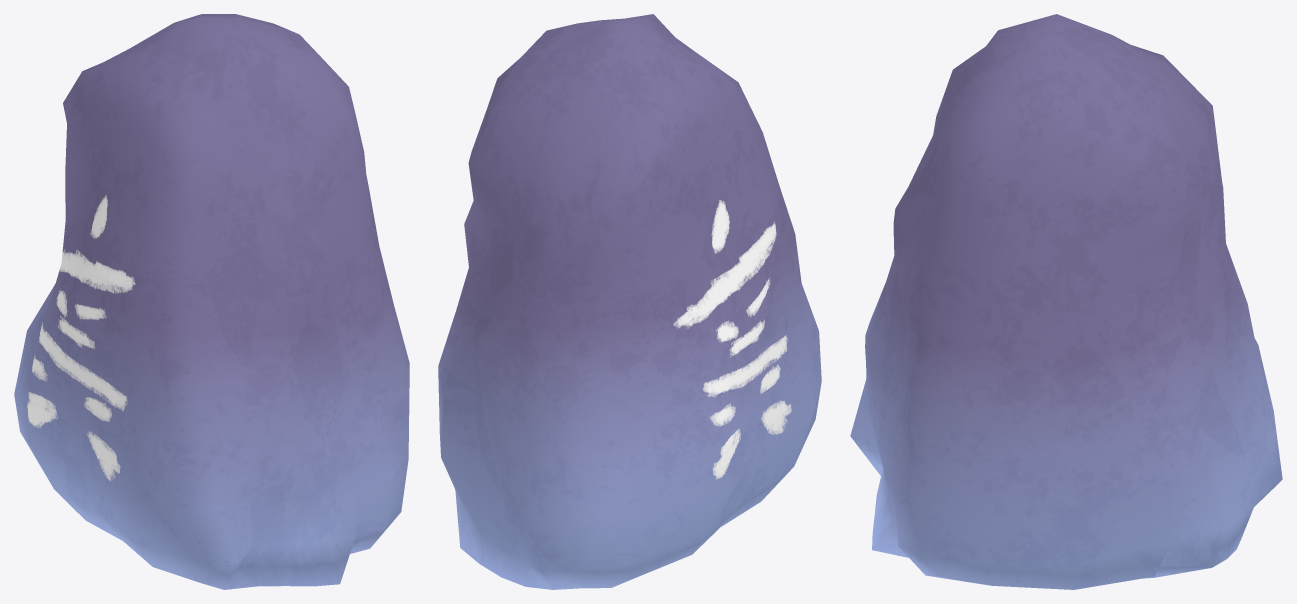
File: rock_01.glb
3 views of the same model, side by side, from view 1: azimuth 30°, elevation 25°; view 2: azimuth 150°, elevation 25°; view 3: azimuth 270°, elevation 25° (orthographic). The views are drawn at different scales.
Parts seen in each view (by area): view 1: pCube1.001; view 2: pCube1.001; view 3: pCube1.001.
Part boxes in pixels (x1,y1,x2,y2): pCube1.001: (14,14,409,589); pCube1.001: (438,14,821,589); pCube1.001: (850,14,1282,589).
Bounding box in the file's own units: 0.6984 × 1.15 × 0.8715.
Materials: 1 (1 with a texture image).
